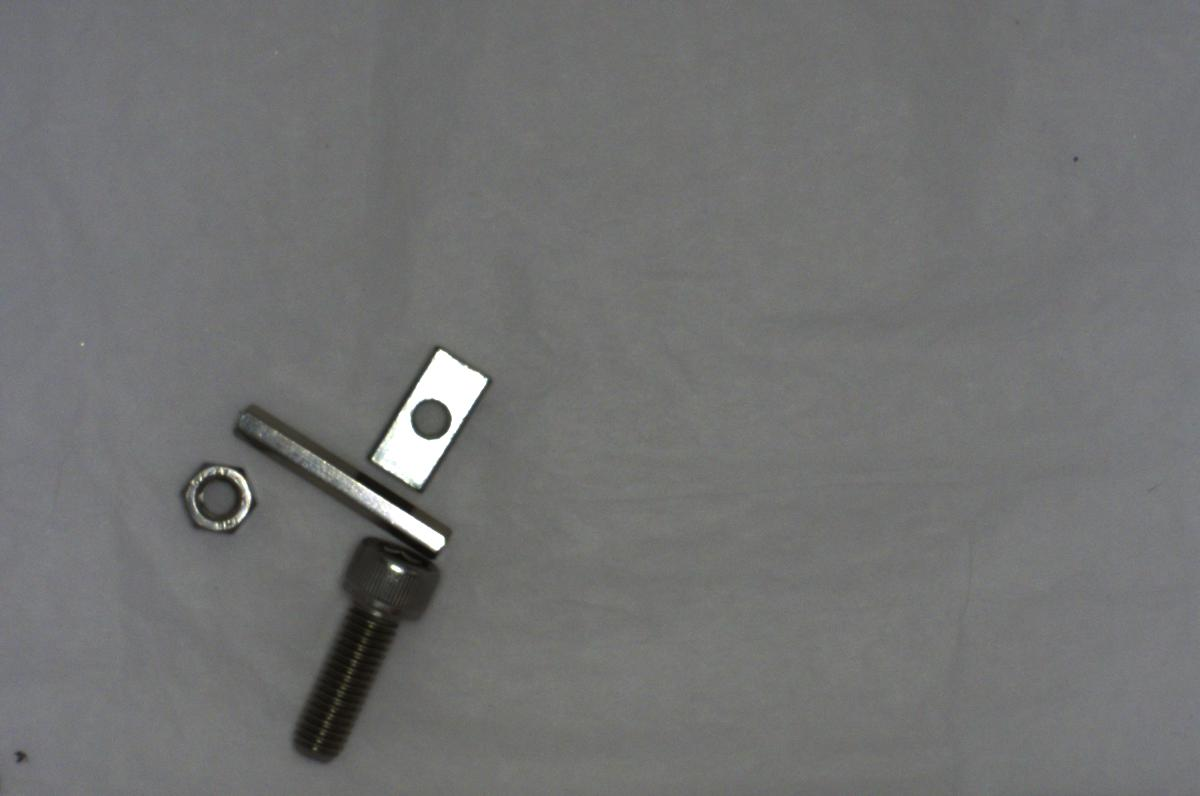Double hexagonal column: (228, 396, 464, 558)
Hexagon nut: (172, 458, 262, 541)
Hexagon screw: (298, 539, 439, 769)
Rectangular nut: (362, 342, 492, 493)
